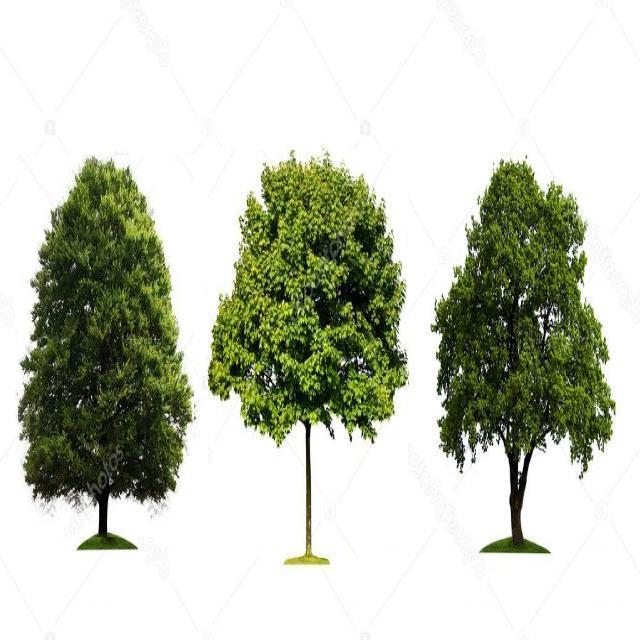tree: (421, 128, 617, 546), (208, 150, 408, 558), (18, 155, 194, 537)
